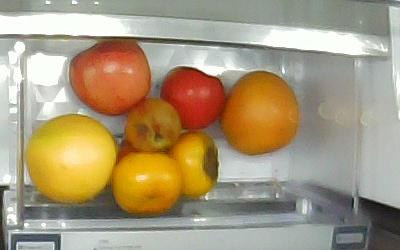apple: (69, 39, 151, 114), (160, 66, 224, 130)
grapefruit: (26, 114, 116, 203), (221, 70, 299, 156)
persimmon: (113, 152, 182, 216), (170, 131, 218, 197)
prune: (125, 98, 182, 153)
